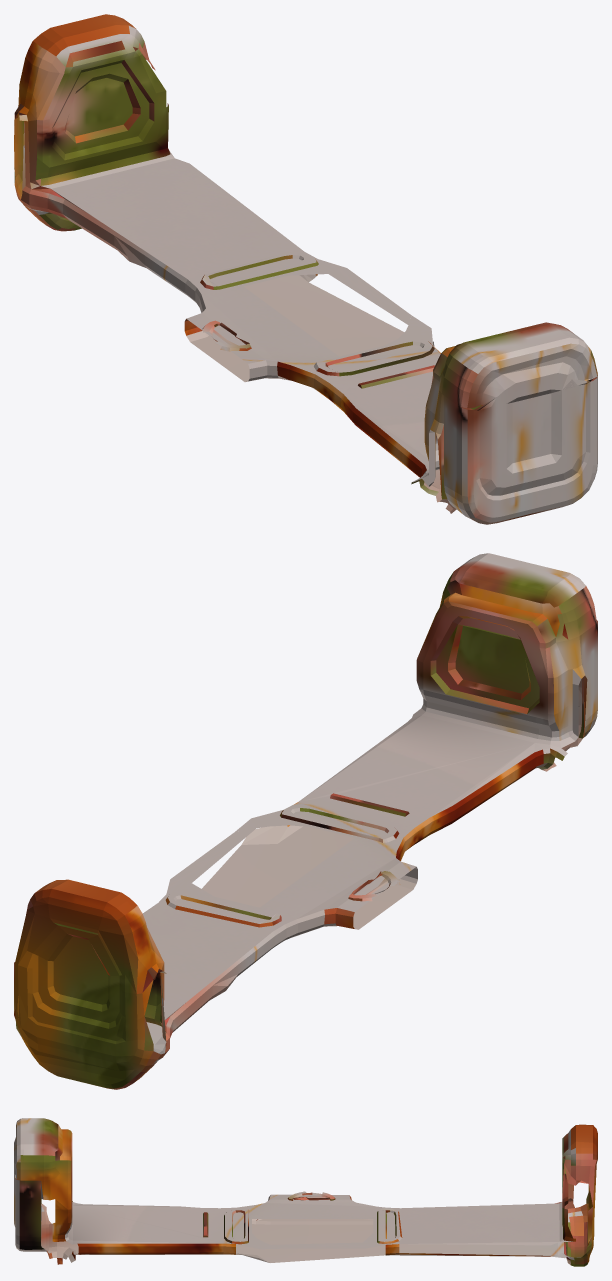
File: XJ_Down_M.fbx
The picture shows the model from 3 angles, top to bottom: view 1: azimuth 30°, elevation 25°; view 2: azimuth 150°, elevation 25°; view 3: azimuth 270°, elevation 25°; orthographic projection. The views are drawn at different scales.
Parts seen in each view (by area): view 1: Down_M; view 2: Down_M; view 3: Down_M.
Part boxes in pixels (<box>): Down_M: <box>14,14,597,524</box>; Down_M: <box>14,553,597,1089</box>; Down_M: <box>14,1118,597,1266</box>.
Size of the model in its own units: 10.79 by 11.08 by 46.96.
